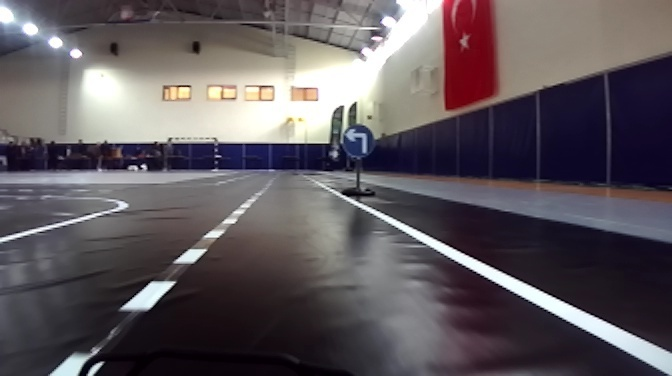sola_donus: (339, 122, 380, 161)
